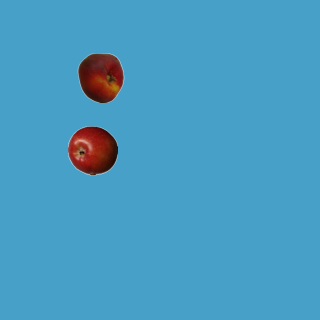Apple Braeburn: (67, 125, 117, 175)
Nectarine Flat: (75, 52, 125, 102)
